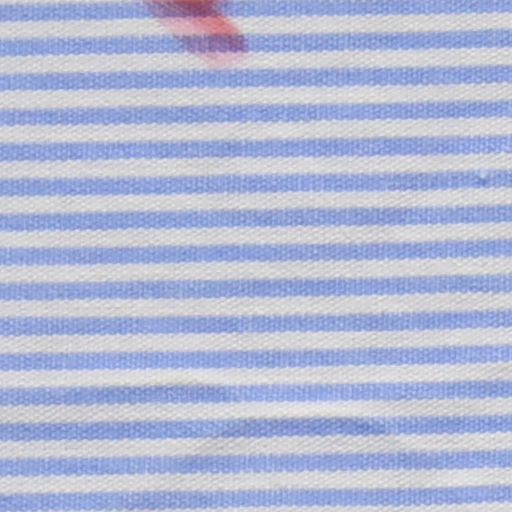defect: (152, 1, 256, 71)
